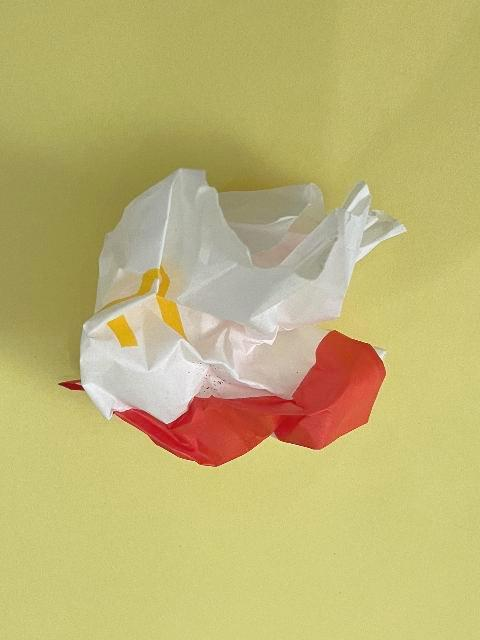paperbag: (58, 166, 408, 468)
